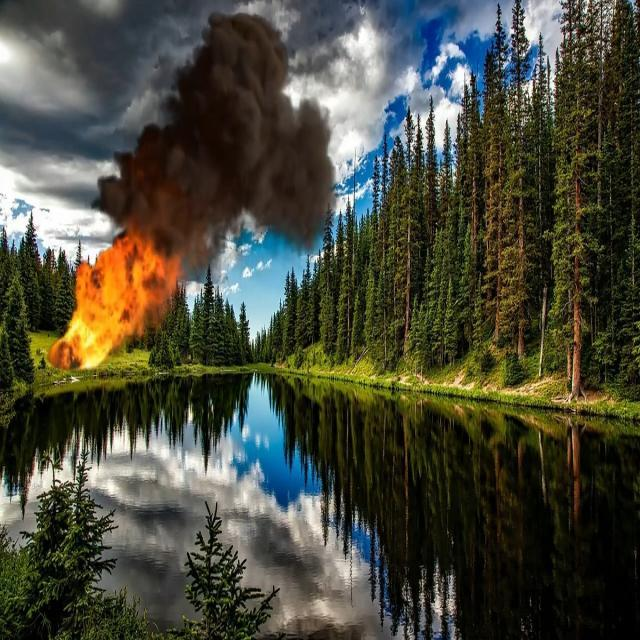Fire: (62, 254, 180, 358)
Smoke: (128, 36, 336, 236)
